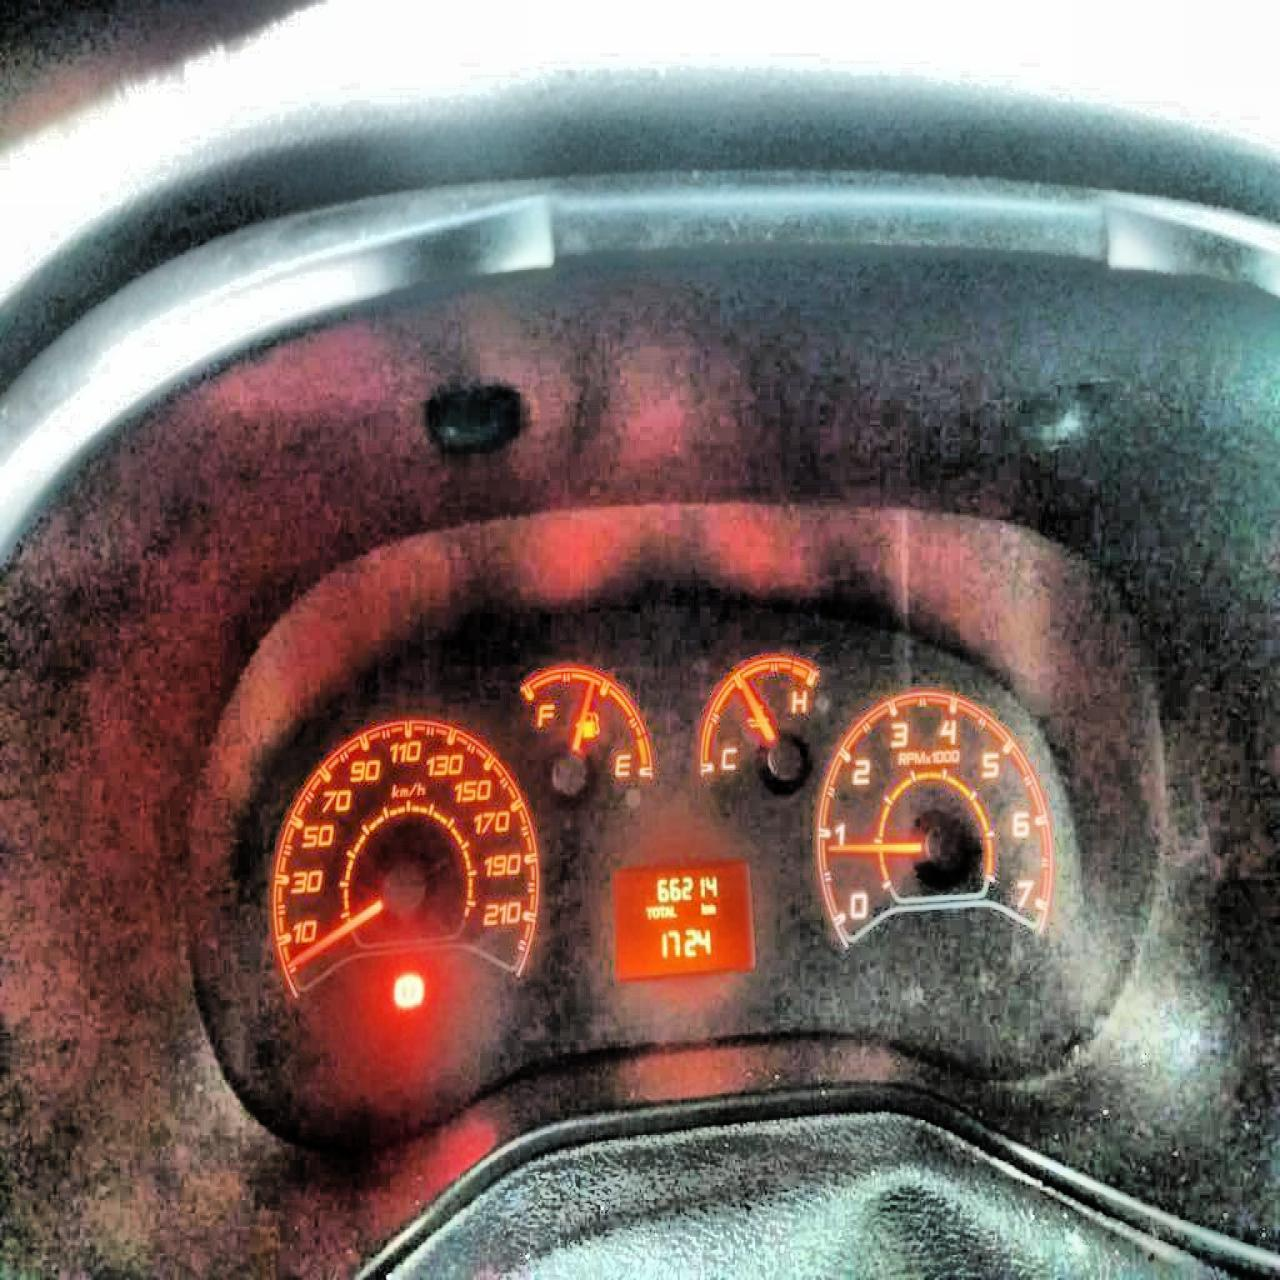1: (660, 930, 666, 960), (696, 873, 703, 897)
2: (682, 925, 696, 956), (681, 873, 693, 900)
4: (697, 927, 712, 955), (704, 873, 717, 897)
6: (668, 874, 680, 900), (655, 877, 667, 901)
7: (668, 928, 680, 956)
X: (699, 900, 707, 913), (644, 905, 652, 918), (706, 904, 716, 913), (652, 905, 659, 918), (670, 904, 676, 917), (665, 904, 670, 917), (659, 905, 665, 917)
odometer: (607, 855, 757, 983)
